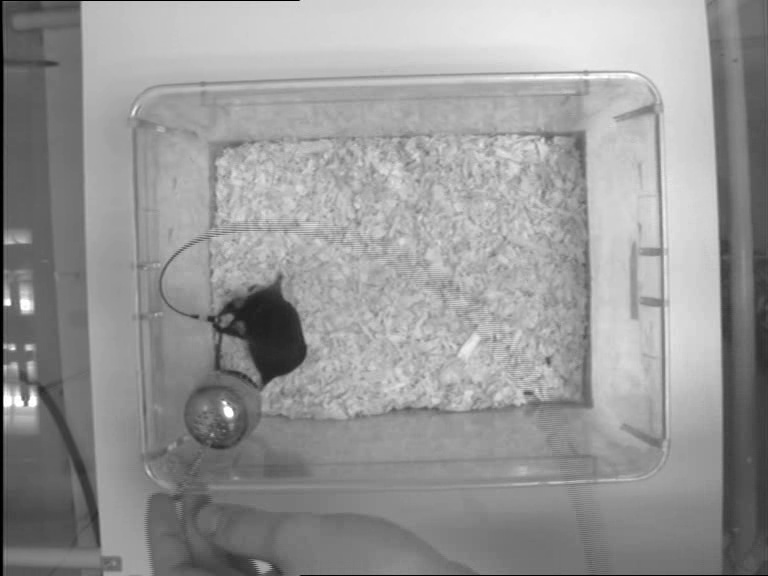mice: (216, 270, 313, 387)
